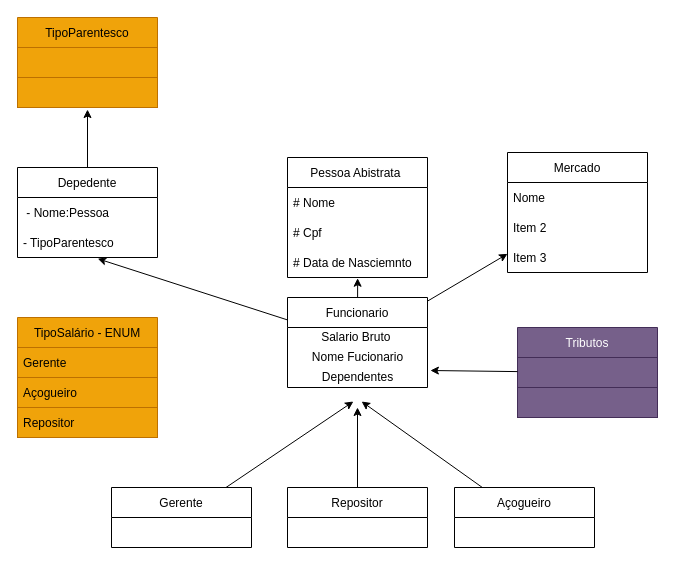
Image size: 675x565. Some labels were removed from this diagram. Each missing label, with the centre of its shape:
Desconto Inss(): point 587,372
Desconto IR(): point 587,402
